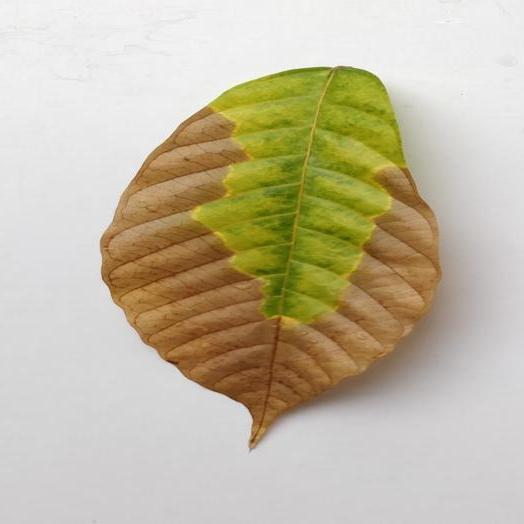Potassium: (103, 67, 439, 447)
